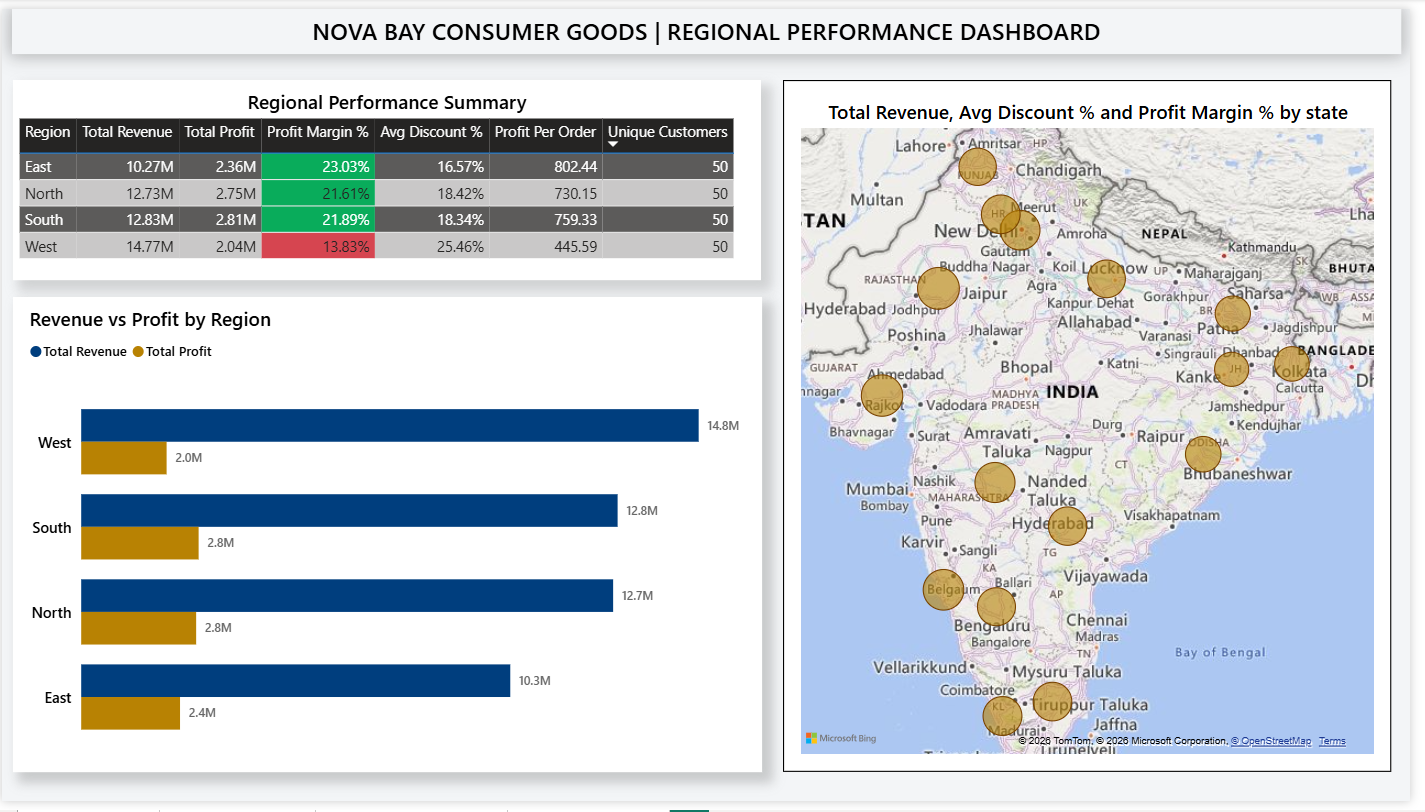

The dashboard page shown, as its layout file describes it:
{"tool":"powerbi","page":{"name":"Regional Performance","canvas":[1280,720],"ordinal":3},"visuals":[{"type":"tableEx","title":"Regional Performance Summary","fields":{"Values":["novabay_db fact_sales.region","_Measures.Total Revenue","_Measures.Total Profit","_Measures.Profit Margin %","_Measures.Avg Discount %","_Measures.Profit Per Order","_Measures.Unique Customers"]},"box":[10,64.5,680,181.8],"z":0},{"type":"clusteredBarChart","title":"Revenue vs Profit by Region","fields":{"Y":["_Measures.Total Revenue","_Measures.Total Profit"],"Category":["novabay_db fact_sales.region"]},"box":[10,261.8,680.9,431.8],"z":1000},{"type":"map","fields":{"Category":["novabay_db fact_sales.state"],"Size":["_Measures.Total Revenue"]},"box":[710,64.5,552.7,629.1],"z":2000},{"type":"textbox","box":[8.9,0,1262.7,40.8],"z":2001}]}

Visuals, with their boxes in screenshot pixels (x1, y1, x2, y2), scaled from the page's 1280x720 canvas onto the 1425x812 screenshot:
"Regional Performance Summary" tableEx: left=11, top=73, right=768, bottom=278
"Revenue vs Profit by Region" clusteredBarChart: left=11, top=295, right=769, bottom=782
map - novabay_db fact_sales.state x _Measures.Total Revenue: left=790, top=73, right=1406, bottom=782
textbox: left=10, top=0, right=1416, bottom=46
